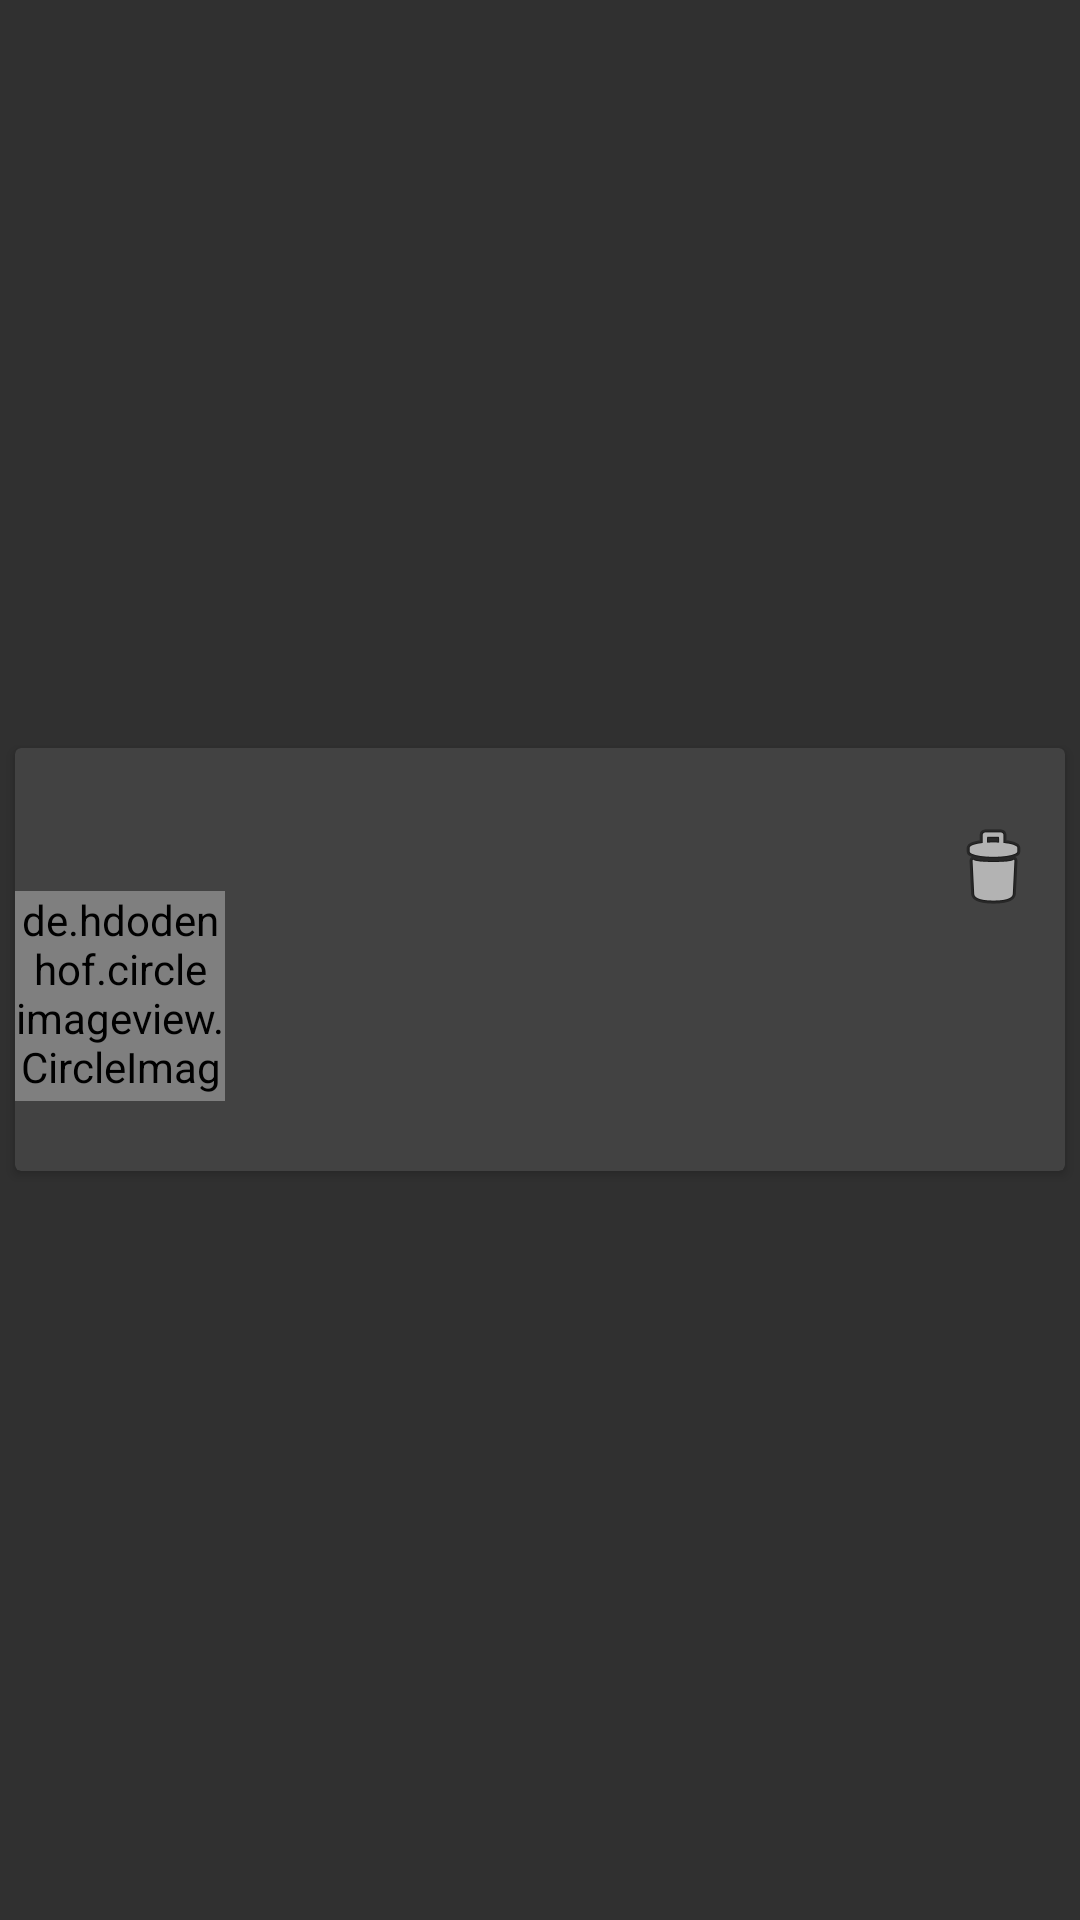

Icons on this 1080*1920 Android screen, each with the point to tap as [x,y]:
delete: [993,866]
